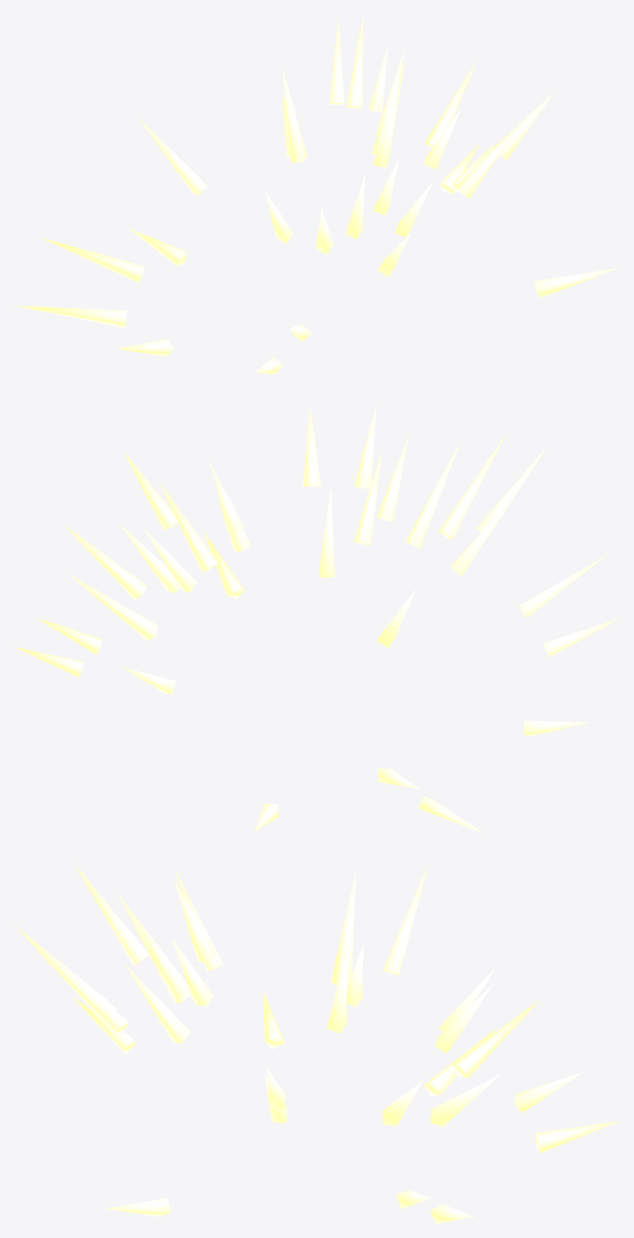
File: fx_burst_arcana.glb
The picture shows the model from 3 angles, top to bottom: view 1: azimuth 30°, elevation 25°; view 2: azimuth 150°, elevation 25°; view 3: azimuth 270°, elevation 25°; orthographic projection. The views are drawn at different scales.
Parts seen in each view (by area): view 1: fx_burst_arcana; view 2: fx_burst_arcana; view 3: fx_burst_arcana.
Boxes of the visible parts, x1=… form: fx_burst_arcana: x1=15, y1=15, x2=619, y2=374; fx_burst_arcana: x1=14, y1=404, x2=618, y2=833; fx_burst_arcana: x1=15, y1=862, x2=619, y2=1223.
Bounding box in the file's own units: 2.02 × 1.13 × 2.01.
